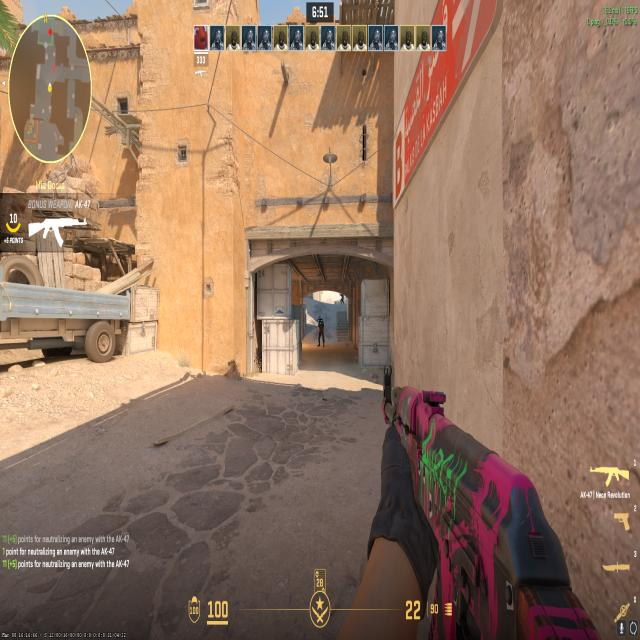ct: (312, 312, 327, 348), (335, 291, 345, 305)
